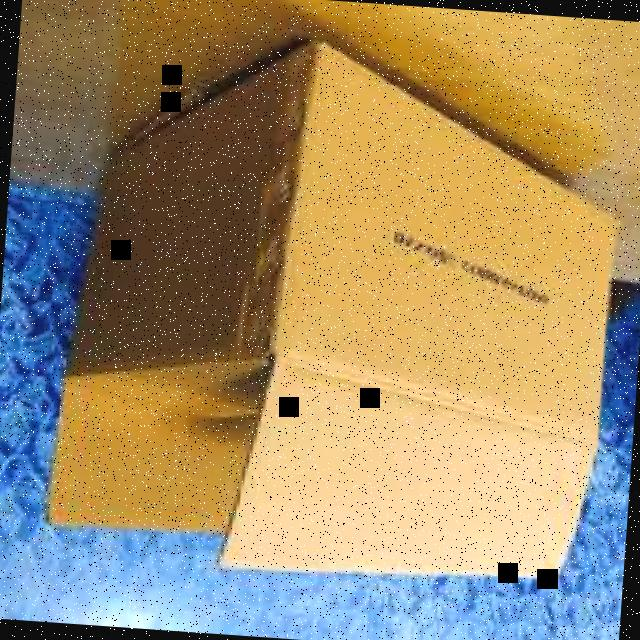cardboard_box: (46, 21, 632, 592)
